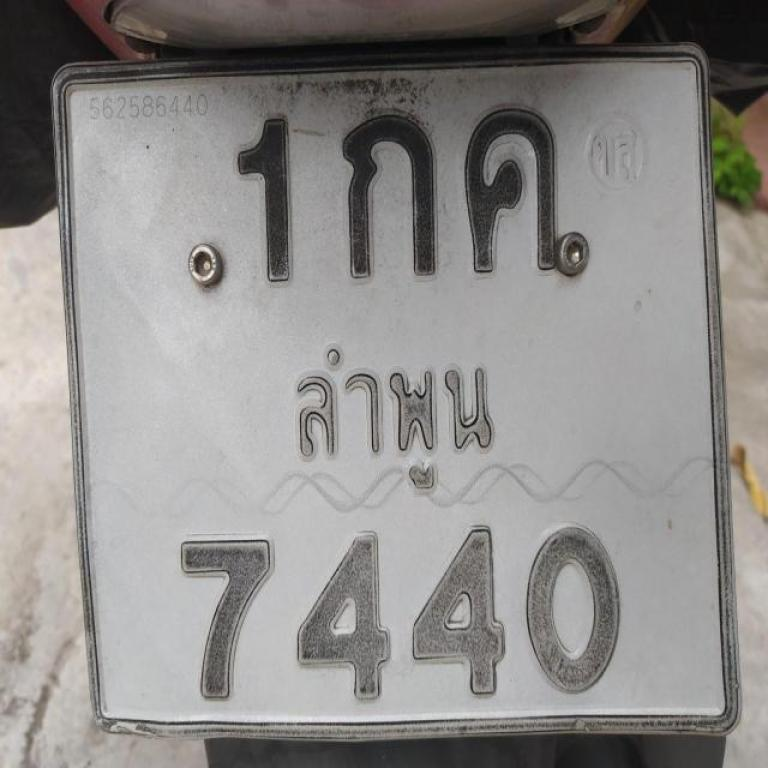license plate: (50, 48, 744, 747)
